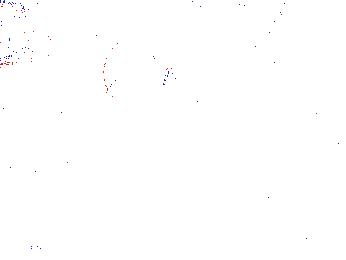moon jellyfish: (269, 1, 346, 109), (17, 1, 131, 56), (123, 3, 226, 50), (102, 37, 166, 108), (190, 16, 244, 98), (1, 3, 49, 66)
